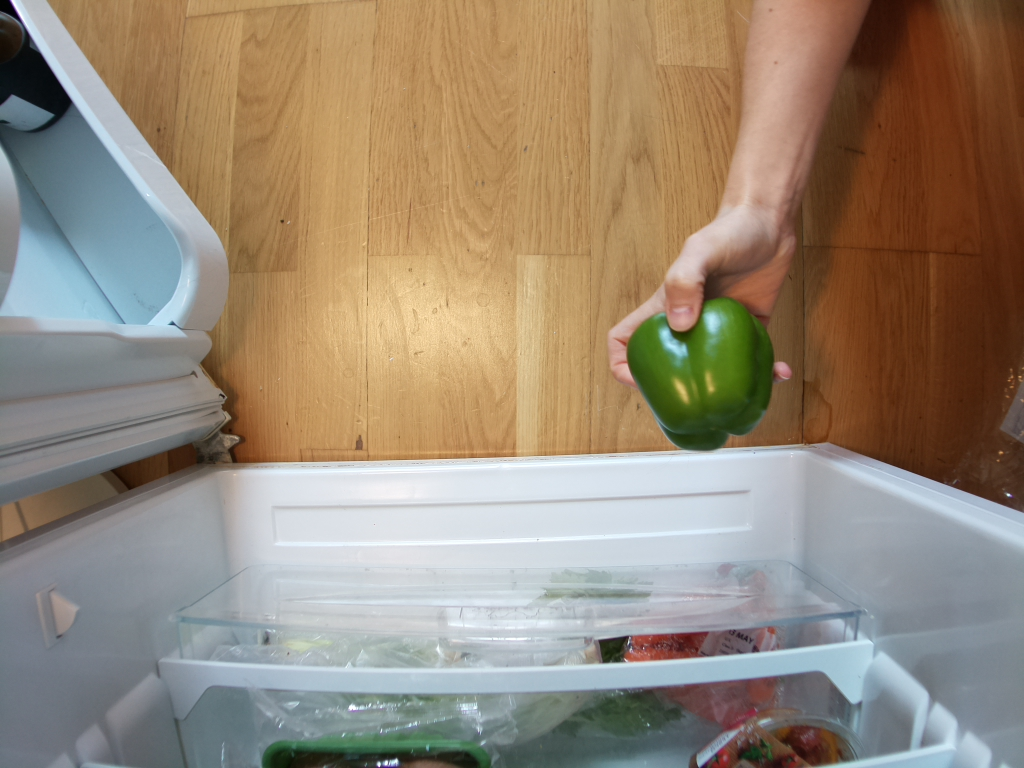pepper: (629, 299, 773, 450)
